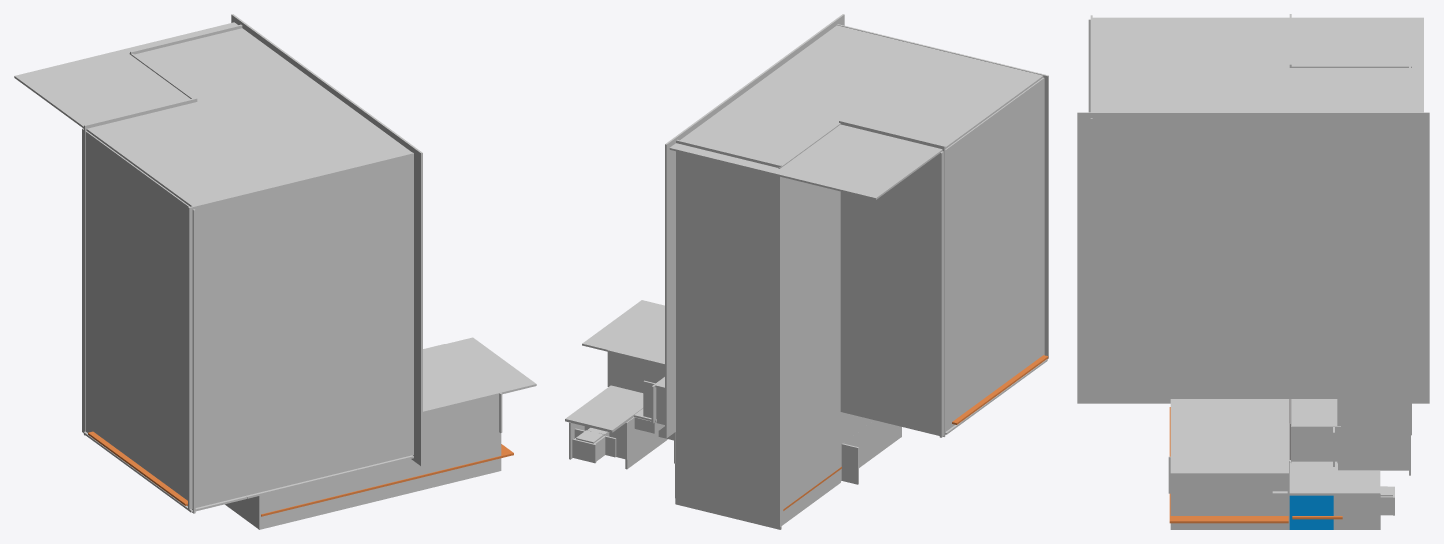
3 views of the same model, side by side, from view 1: azimuth 30°, elevation 25°; view 2: azimuth 150°, elevation 25°; view 3: azimuth 270°, elevation 25° (orthographic). The views are drawn at different scales.
Parts seen in each view (by area): view 1: Cube__196_, Cube__225_, Cube__182_, Cube__167_, Cube__38_, Cube__39_, Cube__44_, Cube__40_, Cube__84_, Cube__86_, Cube__85_, Cube__177_ (+4 smaller); view 2: Cube__100_, Cube__225_, Cube__182_, Cube__177_, Cube__159_, Cube__167_, Cube__28_, Cube__196_, Cube__55_, Cube__41_, Cube__86_, Cube__85_ (+6 smaller); view 3: Cube__167_, Cube__225_, Cube__37_, Cube__92_, Cube__28_, Cube__91_, Cube__43_, Cube__221_, Cube__223_, Cube__15_, Cube__224_, Cube__84_ (+14 smaller).
Part boxes in pixels (box(x1,y1,x2,y2)): Cube__196_: box(188, 152, 413, 509); Cube__225_: box(14, 22, 413, 206); Cube__182_: box(82, 128, 195, 513); Cube__167_: box(231, 14, 422, 466); Cube__38_: box(407, 432, 501, 493); Cube__39_: box(315, 459, 407, 516); Cube__44_: box(423, 394, 499, 450); Cube__40_: box(258, 482, 315, 529); Cube__84_: box(460, 368, 536, 399); Cube__86_: box(423, 337, 493, 366); Cube__85_: box(439, 353, 514, 381); Cube__177_: box(84, 98, 197, 435); Cube__100_: box(675, 139, 781, 529); Cube__225_: box(669, 25, 1043, 199); Cube__182_: box(939, 77, 1044, 437); Cube__177_: box(839, 120, 945, 436); Cube__159_: box(778, 123, 840, 527); Cube__167_: box(665, 14, 844, 438); Cube__28_: box(565, 385, 643, 432); Cube__196_: box(837, 24, 1048, 359); Cube__55_: box(607, 350, 660, 392); Cube__41_: box(841, 420, 900, 480); Cube__86_: box(582, 329, 654, 356); Cube__85_: box(602, 315, 664, 341); Cube__167_: box(1077, 112, 1429, 403); Cube__225_: box(1092, 17, 1423, 112); Cube__37_: box(1172, 493, 1272, 529); Cube__92_: box(1339, 435, 1409, 470); Cube__28_: box(1272, 470, 1380, 495); Cube__91_: box(1337, 403, 1411, 435); Cube__43_: box(1168, 456, 1287, 493); Cube__221_: box(1291, 426, 1340, 463); Cube__223_: box(1333, 493, 1380, 529); Cube__15_: box(1289, 495, 1333, 529); Cube__224_: box(1243, 494, 1289, 529); Cube__84_: box(1170, 448, 1210, 475).
Size of the model in its own units: 20974 by 20277 by 17572.
